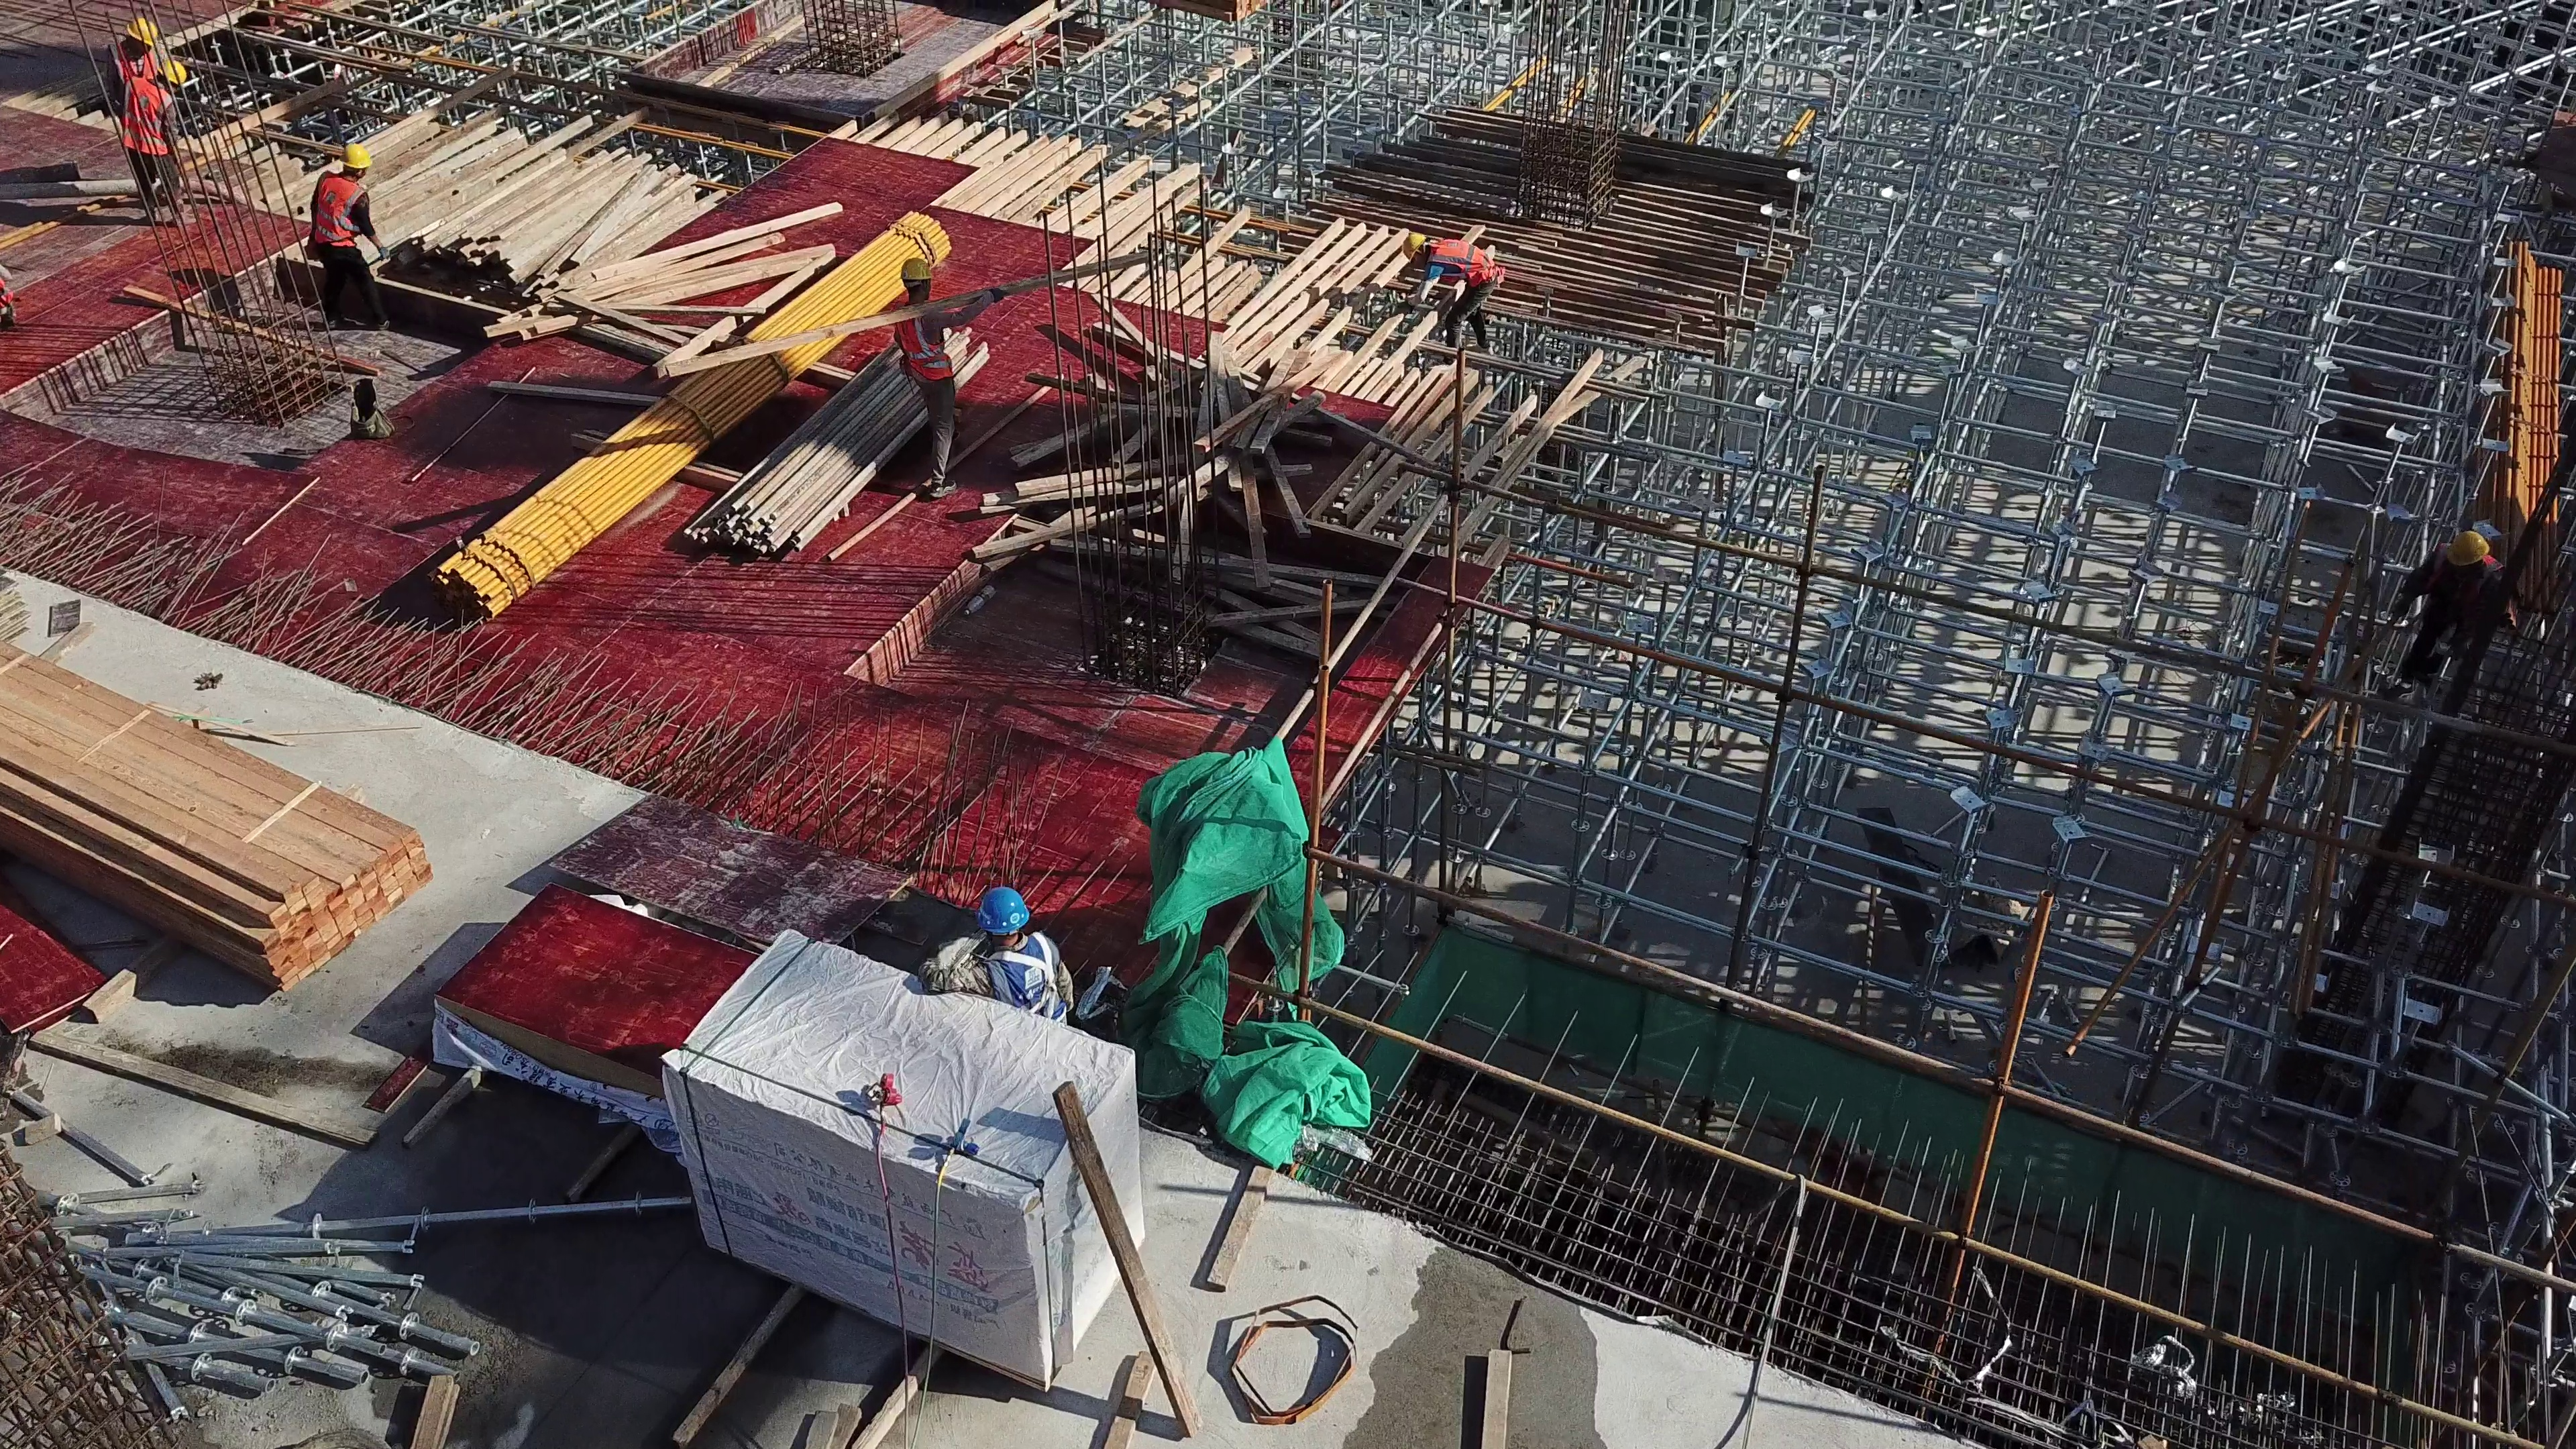helmet: (977, 885, 1032, 942), (2443, 531, 2487, 571), (900, 259, 936, 284), (337, 144, 372, 170), (126, 17, 158, 45), (155, 60, 186, 83), (1401, 231, 1424, 258)
person: (894, 260, 1008, 501), (916, 887, 1082, 1029), (2388, 532, 2516, 718), (307, 142, 394, 333), (1400, 229, 1508, 353), (119, 61, 193, 221), (107, 17, 156, 98)
vest: (985, 940, 1064, 1018), (2426, 549, 2500, 628), (123, 79, 170, 159), (896, 319, 953, 379), (1432, 239, 1503, 287), (315, 170, 356, 248), (113, 46, 150, 83), (1, 278, 12, 308)
